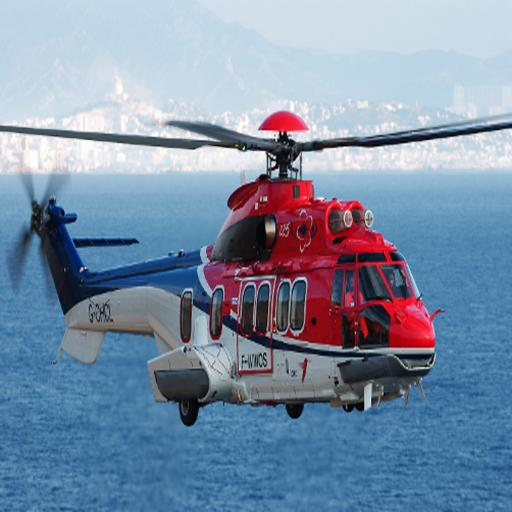helicopter: (2, 111, 512, 434)
